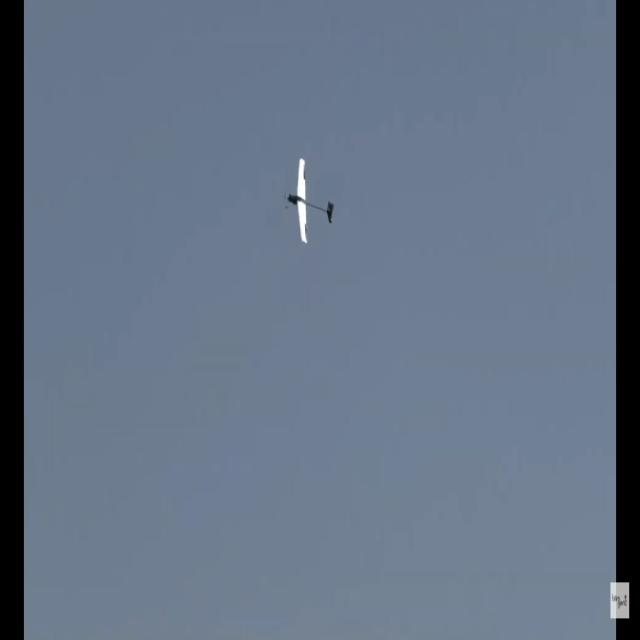iha: (283, 183, 334, 206)
